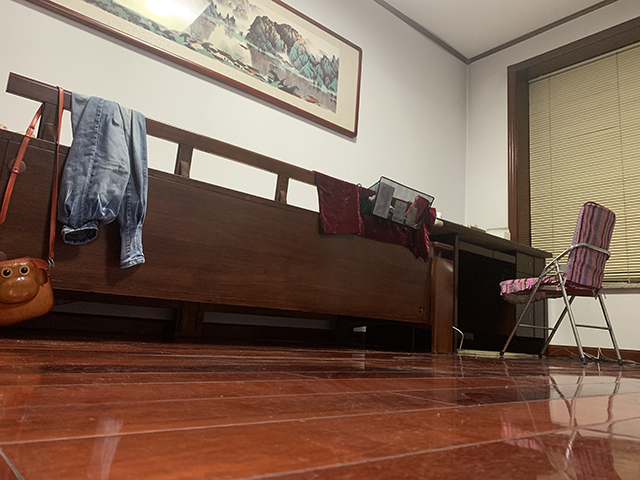bed: (1, 70, 457, 354)
carpet: (457, 348, 540, 360)
stool: (498, 201, 626, 367)
table: (431, 217, 554, 351)
wire: (550, 345, 640, 367), (450, 325, 465, 351)
